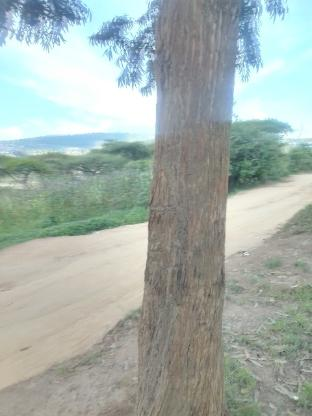tree: (132, 0, 241, 416)
